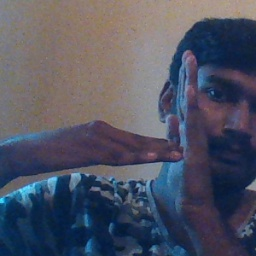Z: (108, 46, 217, 211)
